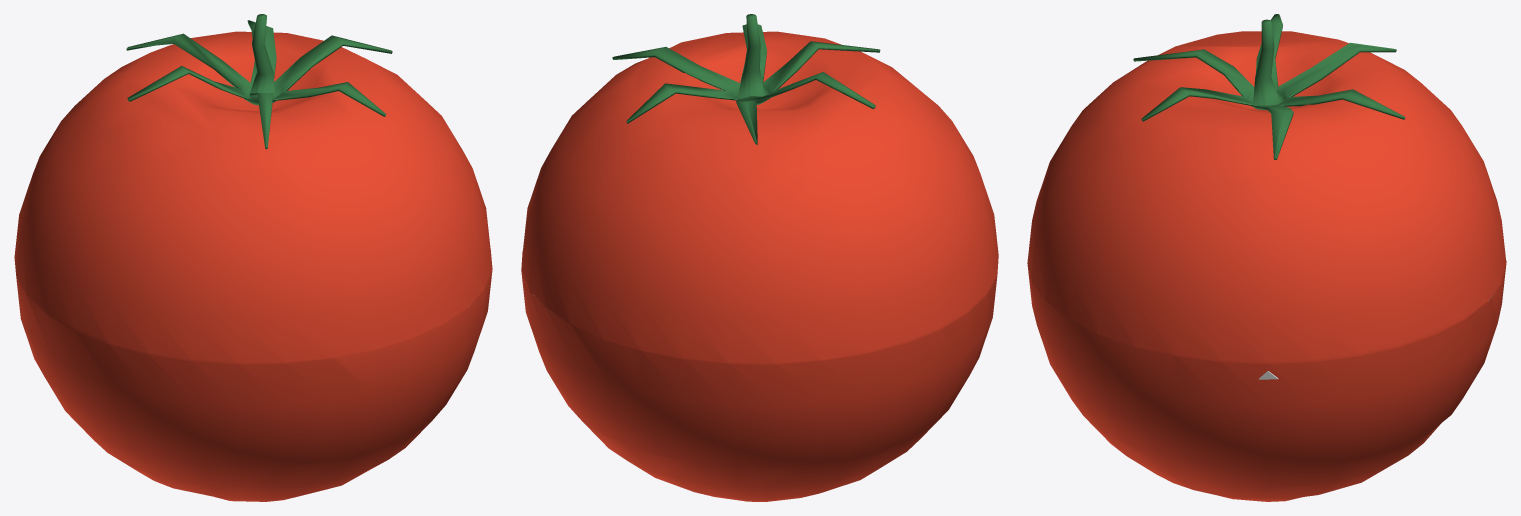
The model's file is pomodoro.glb.
The picture shows the model from 3 angles, left to right: view 1: azimuth 30°, elevation 25°; view 2: azimuth 150°, elevation 25°; view 3: azimuth 270°, elevation 25°; orthographic projection.
Parts seen in each view (by area): view 1: tomato_top, tomato_bottom, tomato_green_0; view 2: tomato_top, tomato_bottom, tomato_green_0; view 3: tomato_top, tomato_bottom, tomato_green_0.
Boxes of the visible parts, left/top/right/bottom form: tomato_top: left=14, top=31, right=492, bottom=361; tomato_bottom: left=14, top=250, right=492, bottom=501; tomato_green_0: left=126, top=14, right=392, bottom=149; tomato_top: left=521, top=31, right=998, bottom=362; tomato_bottom: left=521, top=250, right=998, bottom=501; tomato_green_0: left=612, top=14, right=880, bottom=144; tomato_top: left=1027, top=31, right=1506, bottom=364; tomato_bottom: left=1027, top=260, right=1506, bottom=501; tomato_green_0: left=1133, top=14, right=1405, bottom=159.
Size of the model in its own units: 2.04 by 2.19 by 2.04.
